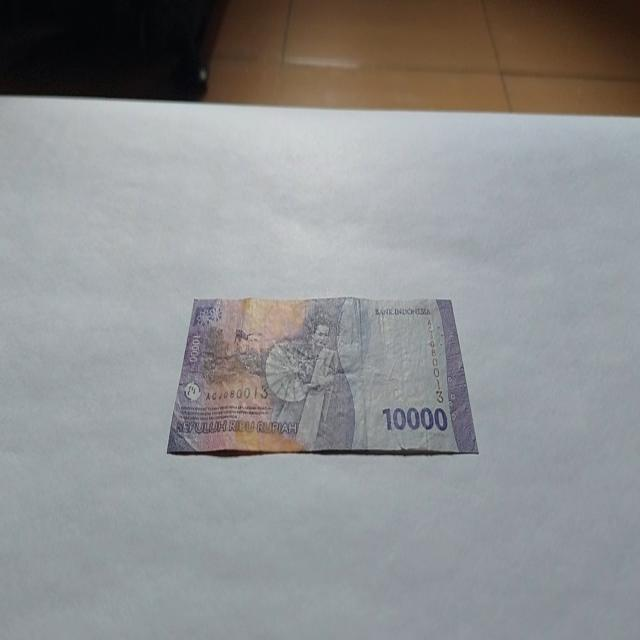sepuluh ribu rupiah: (165, 293, 479, 458)
